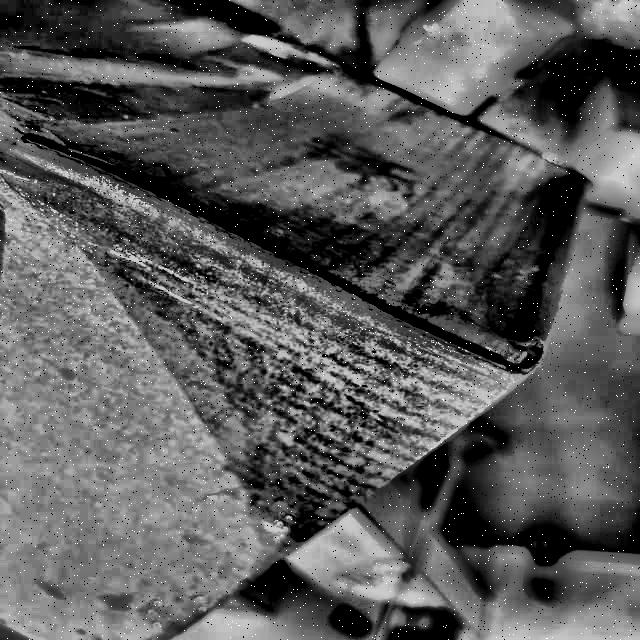box: (0, 1, 601, 640)
wet: (84, 124, 609, 540)
